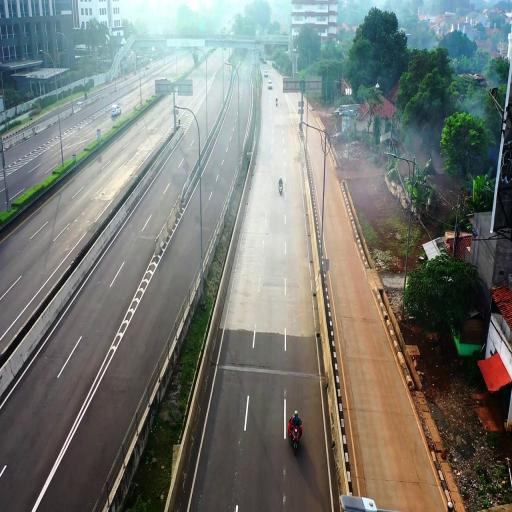vehicle: (288, 410, 301, 449), (278, 177, 283, 194)
